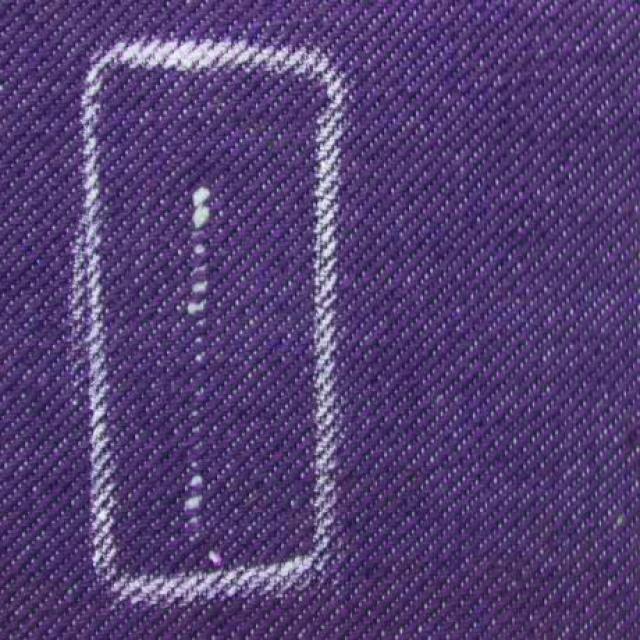Thread_other: (139, 156, 247, 558)
